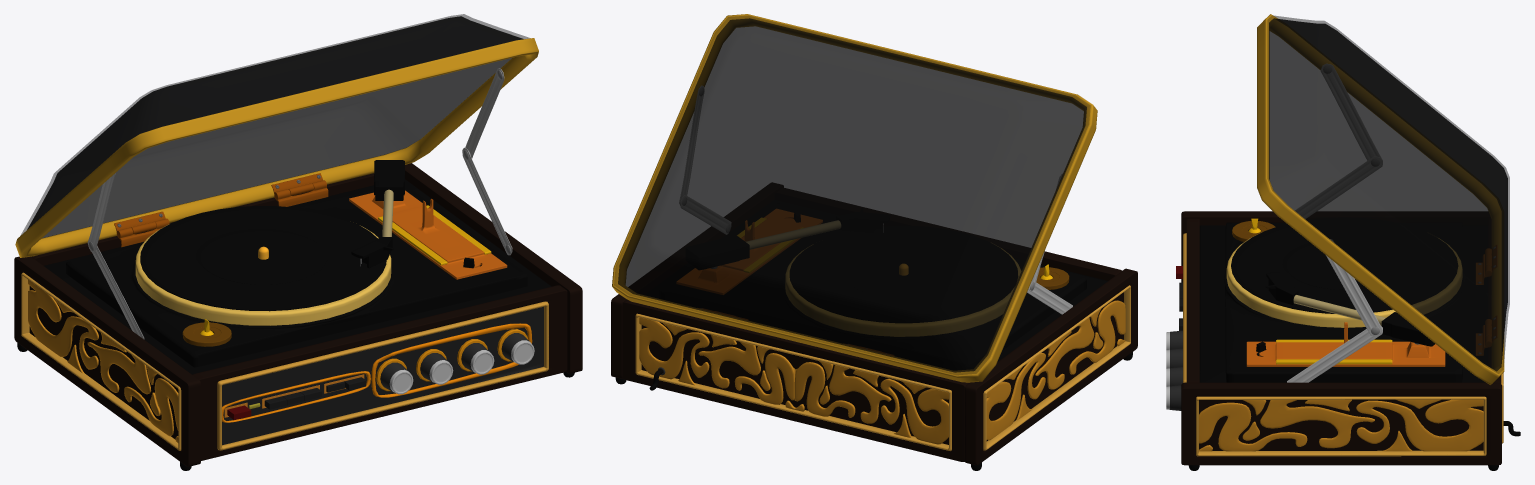
The model's file is obj_old_recordplayer_e96369.glb.
3 renders of one model, left to right at view 1: azimuth 30°, elevation 25°; view 2: azimuth 150°, elevation 25°; view 3: azimuth 270°, elevation 25°, orthographic. The views are drawn at different scales.
Parts seen in each view (by area): view 1: obj_old_recordplayer_e96369; view 2: obj_old_recordplayer_e96369; view 3: obj_old_recordplayer_e96369.
Part boxes in pixels (x1,y1,x2,y2): obj_old_recordplayer_e96369: (14,14,582,470); obj_old_recordplayer_e96369: (611,14,1137,470); obj_old_recordplayer_e96369: (1166,14,1520,470).
Bounding box in the file's own units: 0.45 × 0.3399 × 0.3685.
